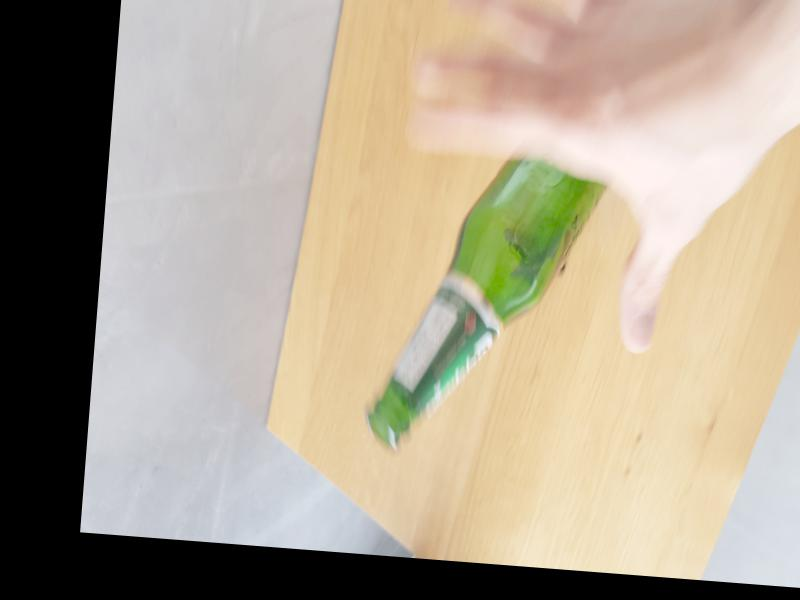Beer: (363, 148, 610, 466)
